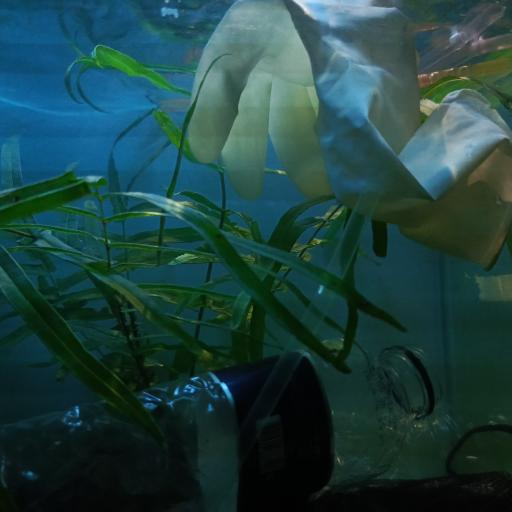glove: (184, 0, 512, 263)
mask: (316, 421, 512, 512)
plastic_bottle: (0, 343, 444, 511)
plastic_straw: (210, 144, 383, 478), (412, 2, 512, 111)
